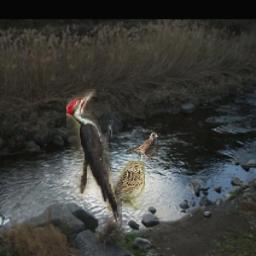Sparrow: (106, 162, 144, 211), (126, 131, 159, 161)
Woodpecker: (66, 89, 122, 223)
